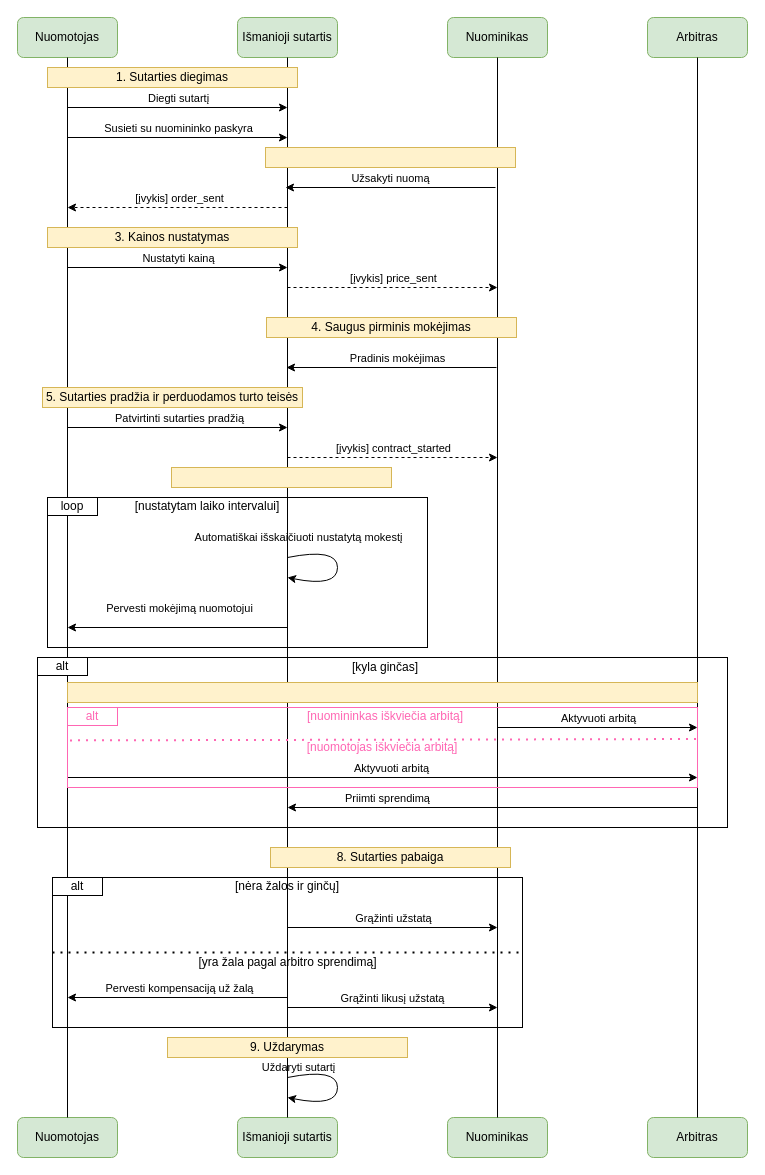
Some shapes in this 765 by 1175 pixel diagram are drawn without their labels. The box of each missing label's shape, as (x1, y1, x2, y2) in pixels:
2. Užsakymo fazė: (264, 146, 516, 168)
6. Pasikartojantys mokėjimai: (170, 466, 392, 488)
7. Ginčo sprendimas: (66, 682, 698, 702)
